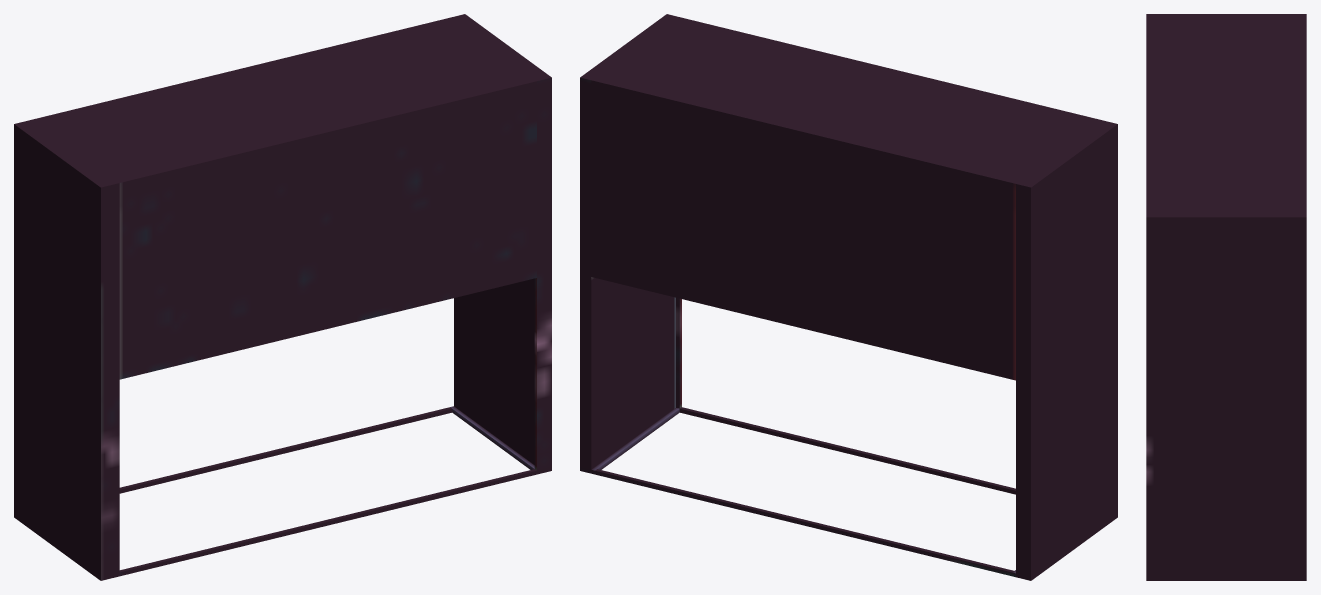
The model's file is BuildingModule_B_00.fbx.
The picture shows the model from 3 angles, left to right: view 1: azimuth 30°, elevation 25°; view 2: azimuth 150°, elevation 25°; view 3: azimuth 270°, elevation 25°; orthographic projection. The views are drawn at different scales.
Visible parts, largest first — view 1: BuildingModule_B_00; view 2: BuildingModule_B_00; view 3: BuildingModule_B_00.
Part boxes in pixels (x1=…): BuildingModule_B_00: x1=14, y1=14, x2=551, y2=580; BuildingModule_B_00: x1=580, y1=14, x2=1117, y2=580; BuildingModule_B_00: x1=1146, y1=14, x2=1306, y2=580.
Size of the model in its own units: 600 by 500 by 200.
